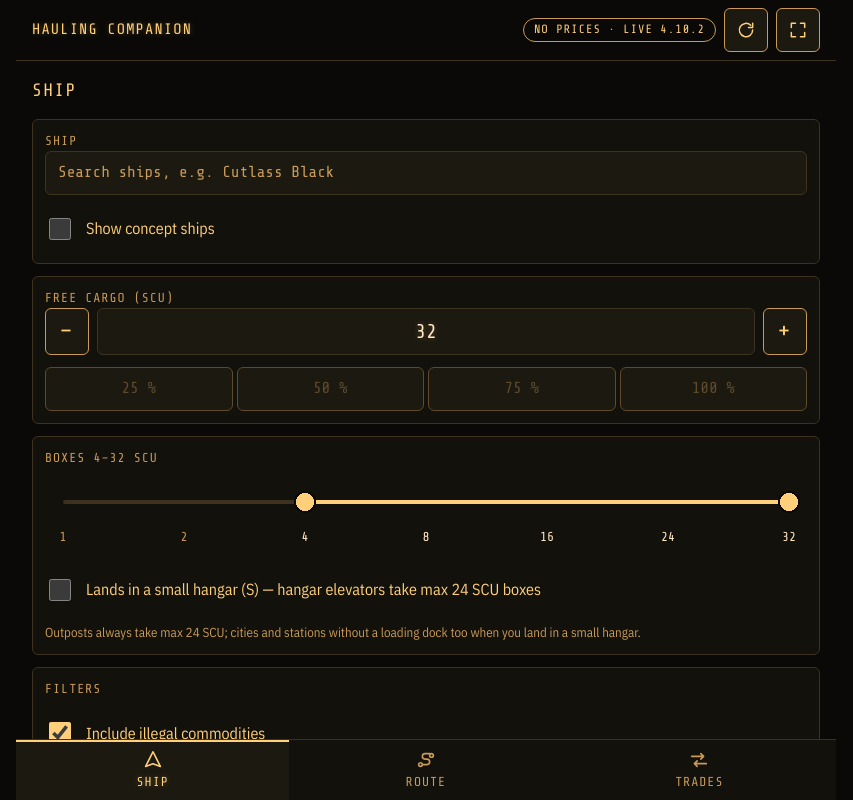
Test: App wiring › "Refresh prices" in the header is disabled during the 60 s cooldown
Expected: the text "NO PRICES · LIVE 4.10.2" is shown, [523, 18, 716, 42]
Click the tab "Trades": (699, 770) [563, 740, 836, 799]
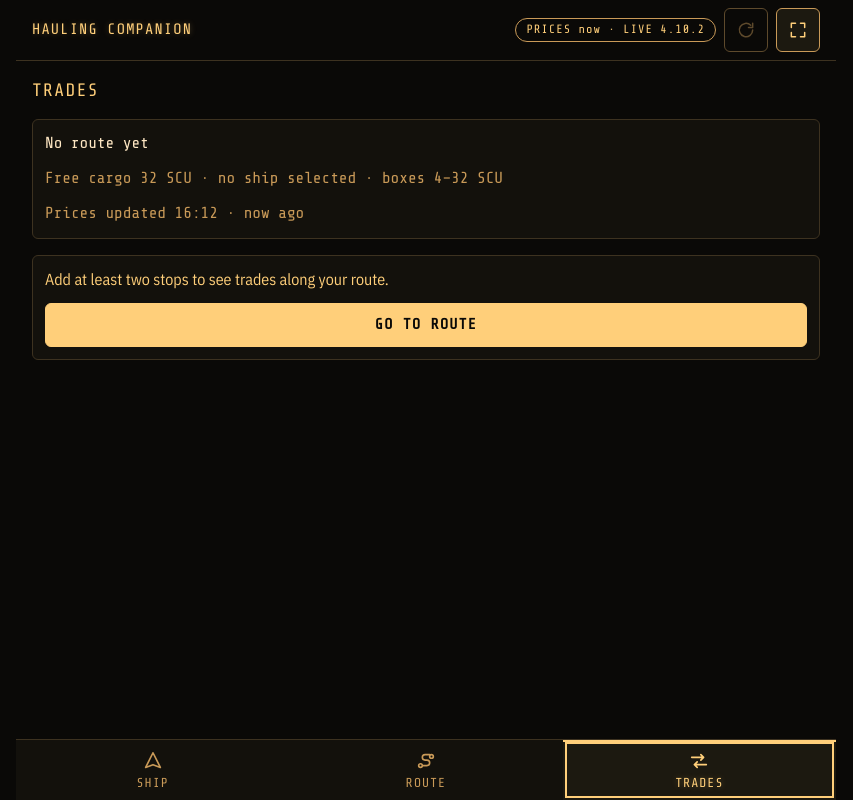
Result: the button named "Refresh prices" is disabled at [724, 8, 768, 52]
